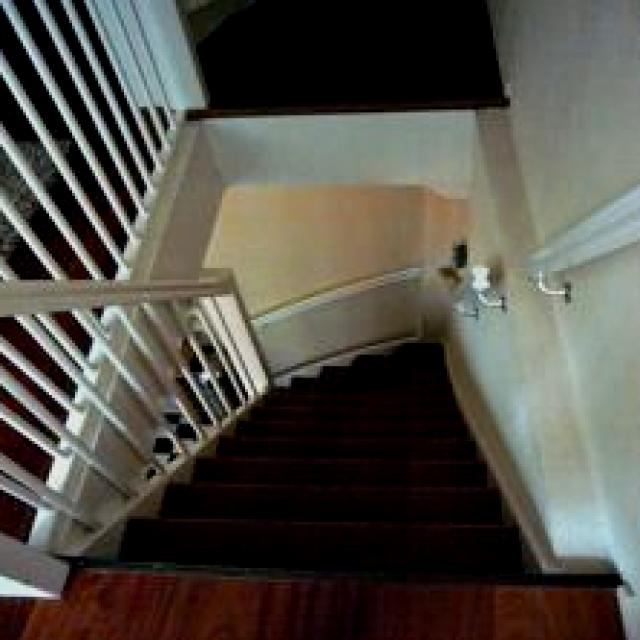downstair: (85, 405, 529, 624)
